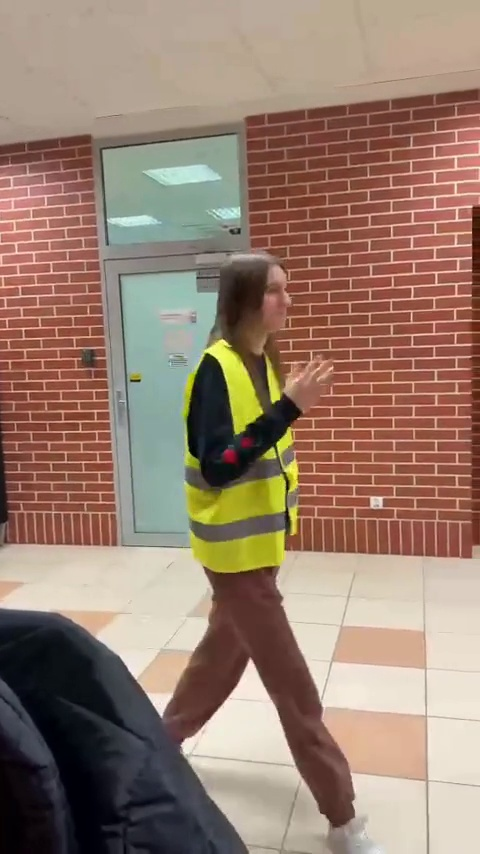vest: (177, 250, 377, 824)
